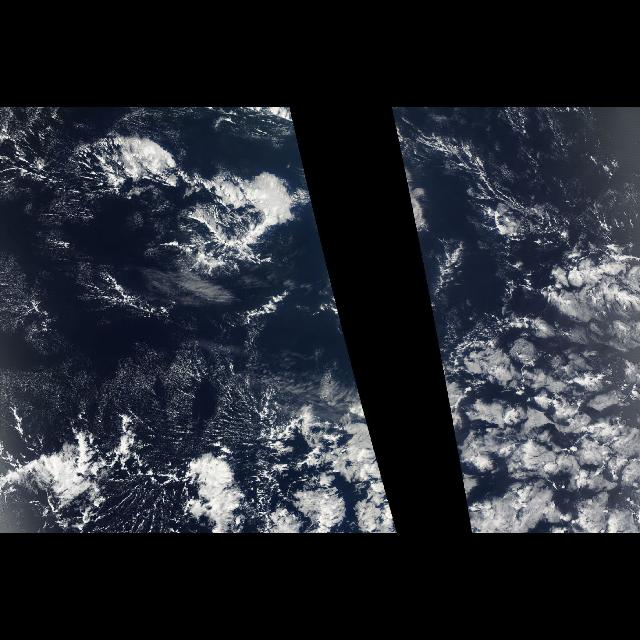Fish: (0, 130, 300, 278)
Flower: (436, 221, 640, 533), (182, 346, 400, 534)
Sugar: (31, 358, 362, 454)
